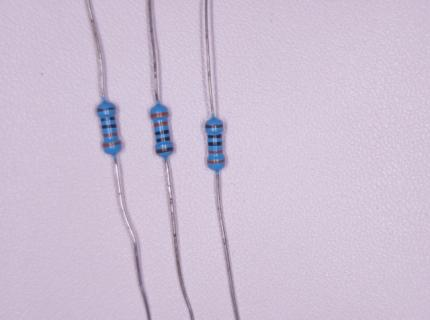Black band: (102, 124, 116, 129), (208, 141, 222, 146), (101, 117, 114, 122), (156, 130, 169, 135), (157, 137, 170, 142), (208, 134, 221, 138)
Brown band: (156, 148, 173, 154), (98, 107, 115, 112), (205, 124, 223, 128)
Orange band: (150, 112, 169, 119), (103, 142, 121, 148), (103, 132, 118, 138), (207, 159, 225, 164), (154, 121, 168, 127), (209, 150, 223, 154)
